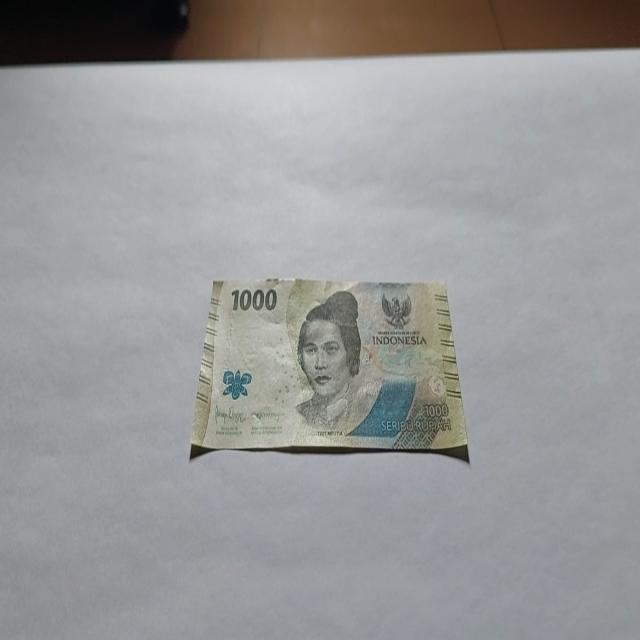seribu rupiah kertas: (188, 276, 470, 464)
